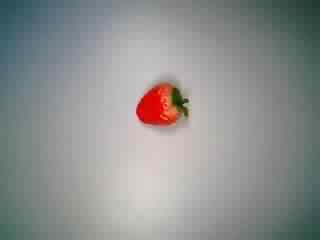strawberry: (128, 72, 194, 138)
